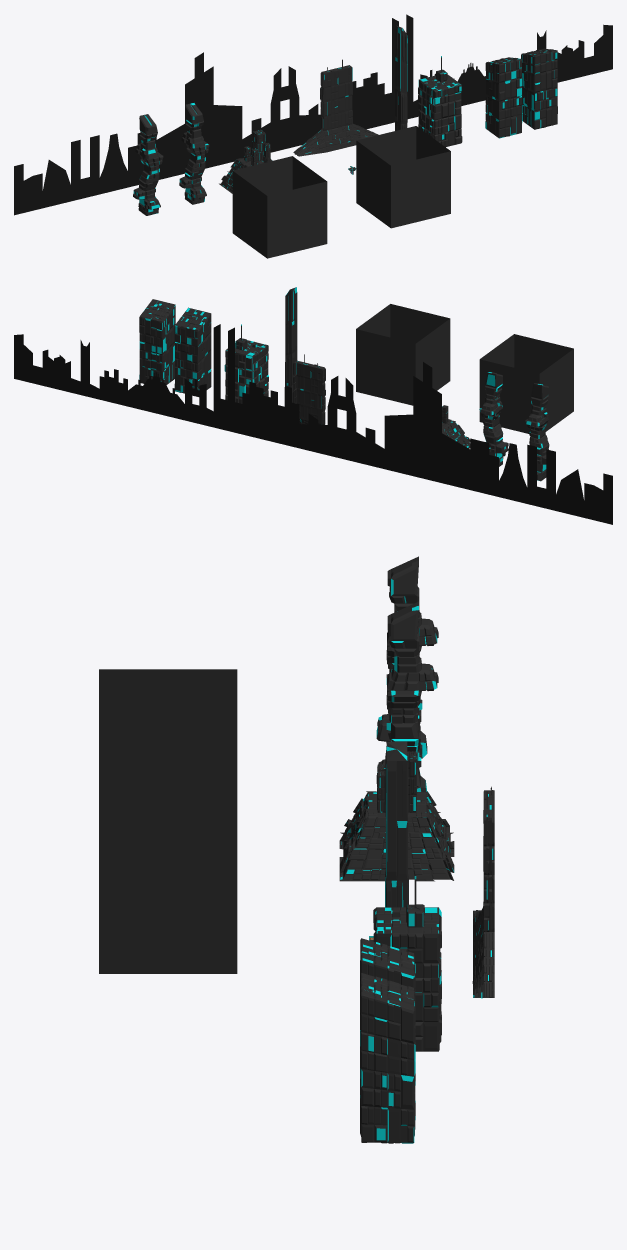
Rendered from Buildings.fbx.
3 views of the same model, one above another, from view 1: azimuth 30°, elevation 25°; view 2: azimuth 150°, elevation 25°; view 3: azimuth 270°, elevation 25° (orthographic). The views are drawn at different scales.
Parts seen in each view (by area): view 1: Background, Base, Top, Ejecutive Building, Big Building, Generic Building, Generic Building V2, Irregular Building V2, Irregular Building, Tall Building, Piramid 1; view 2: Background, Top, Base, Generic Building, Generic Building V2, Big Building, Ejecutive Building, Irregular Building, Irregular Building V2, Tall Building, Piramid 1; view 3: Top, Base, Generic Building V2, Piramid 1, Big Building, Irregular Building, Tall Building, Ejecutive Building, Irregular Building V2, Generic Building.
Part boxes in pixels (x1,y1,x2,y2): Background: (14,14,612,215); Base: (232,156,327,258); Top: (356,126,450,228); Ejecutive Building: (293,59,378,156); Big Building: (418,56,462,147); Generic Building: (485,57,522,138); Generic Building V2: (521,48,557,129); Irregular Building V2: (133,114,163,215); Irregular Building: (179,103,209,204); Tall Building: (395,25,407,130); Piramid 1: (219,129,272,193); Background: (14,324,612,524); Top: (356,304,450,405); Base: (479,334,573,433); Generic Building: (174,307,211,393); Generic Building V2: (139,299,175,384); Big Building: (224,324,268,403); Ejecutive Building: (292,354,325,424); Irregular Building: (479,372,508,466); Irregular Building V2: (525,383,549,481); Tall Building: (284,287,297,406); Piramid 1: (442,405,470,448); Top: (99,790,237,973); Base: (99,669,237,790); Generic Building V2: (360,973,415,1143); Piramid 1: (339,751,454,881); Big Building: (373,876,441,1051); Irregular Building: (376,601,438,792); Tall Building: (385,741,408,907); Ejecutive Building: (472,786,494,998); Irregular Building V2: (376,556,438,758); Generic Building: (360,938,415,1097).
Bounding box in the file's own units: 20000 × 4137 × 6200.
4 materials, 1 textured.
